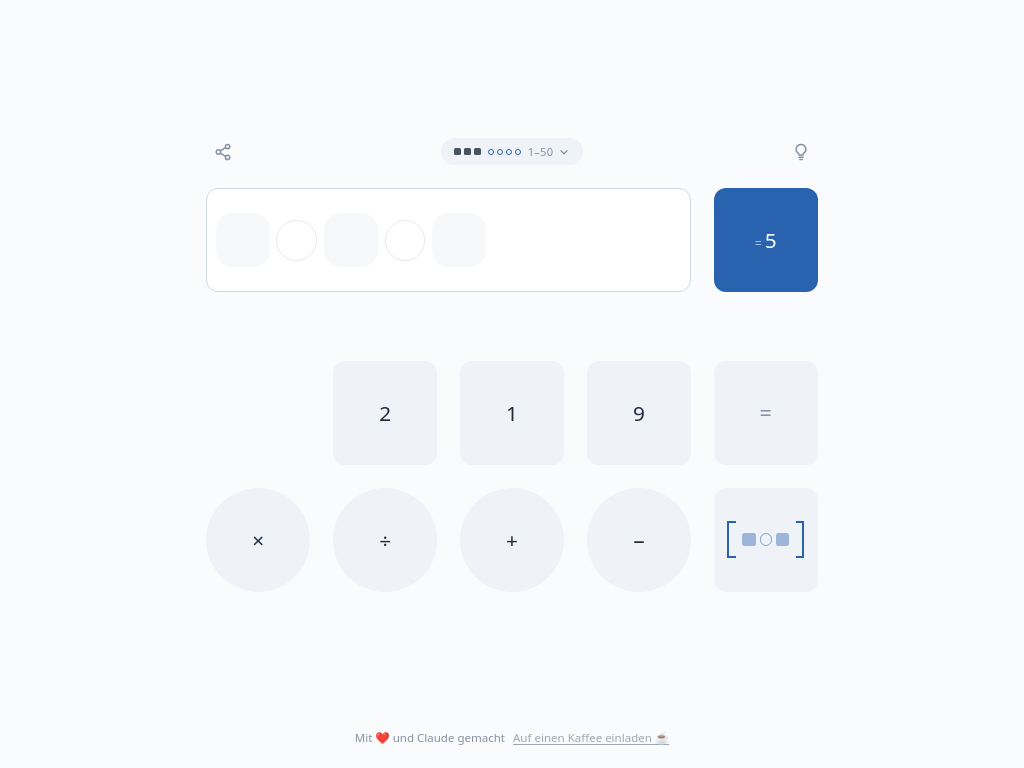
it: Game — the header chip opens and closes the selection panel (concept 15.6) › is closed at first, opens on tap, closes on Escape
The width and height of the screenshot is (1024, 768).
expect the text "Wie viele Zahlen" is not shown: met
Click the button "1–50". click: (512, 152)
box: [441, 138, 583, 165]
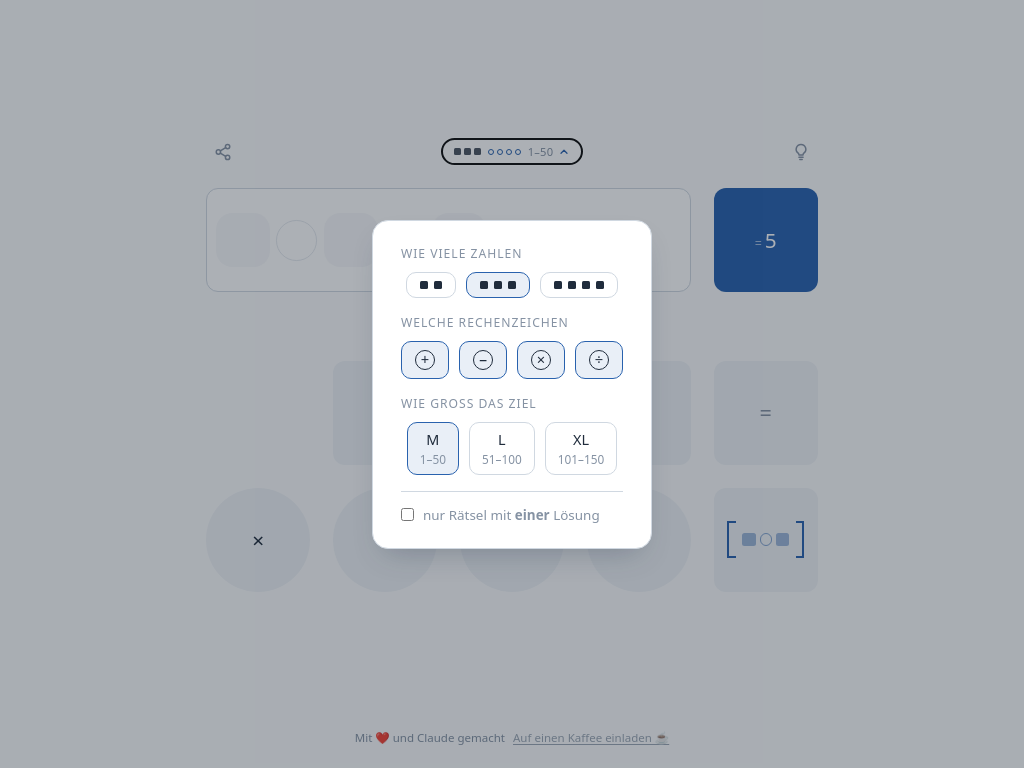
expect the text "Wie viele Zahlen" is shown: met, box [401, 244, 522, 262]
Press Escape
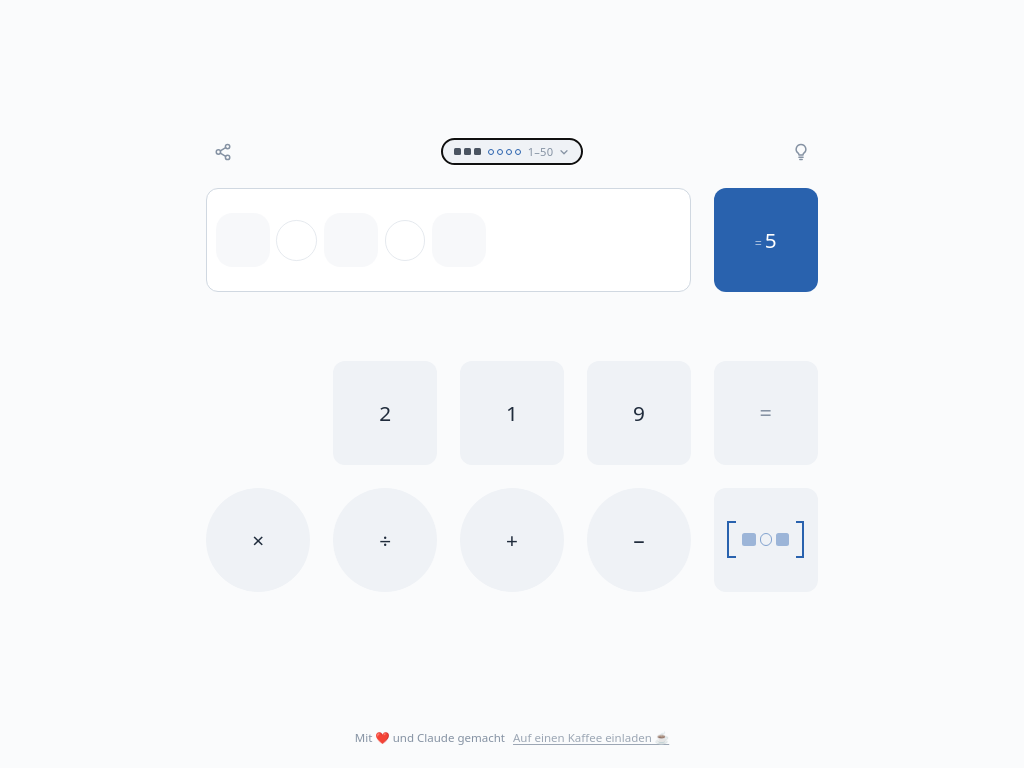
expect the text "Wie viele Zahlen" is gone: met
